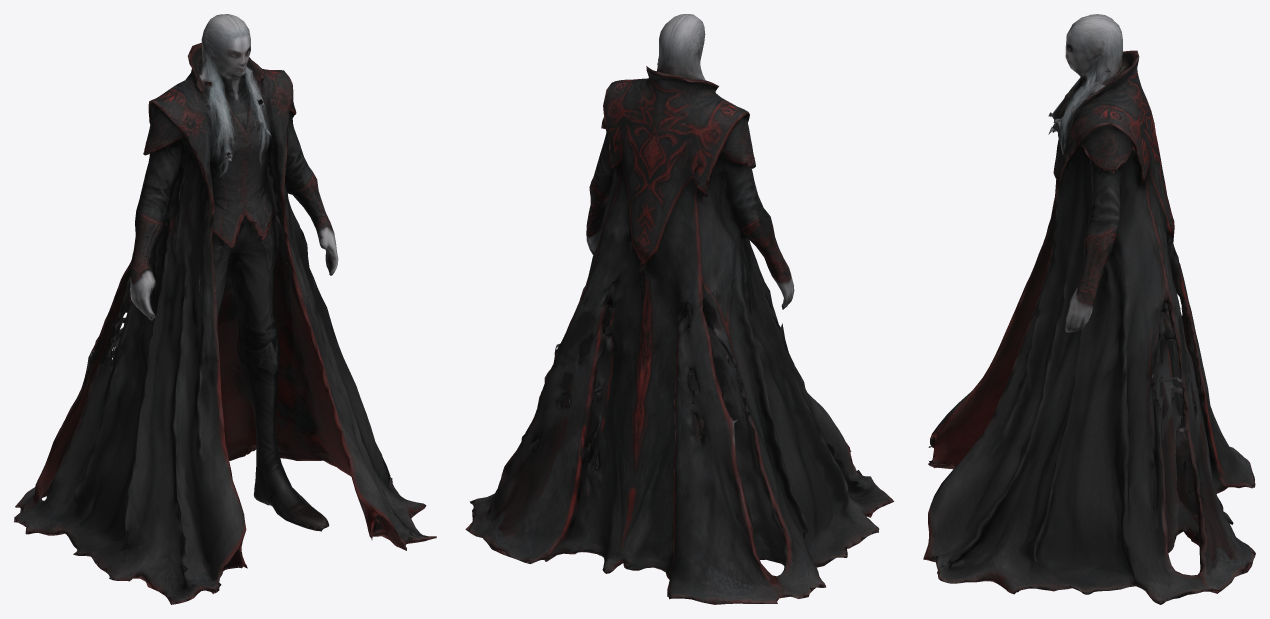
The model's file is vampire-male-noble.glb.
3 views of the same model, side by side, from view 1: azimuth 30°, elevation 25°; view 2: azimuth 150°, elevation 25°; view 3: azimuth 270°, elevation 25° (orthographic).
Bounding box in the file's own units: 1.46 × 2 × 1.19.
Materials: 1 (1 with a texture image).
